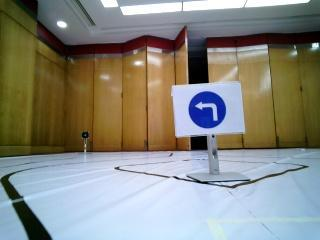left: (176, 89, 238, 131)
